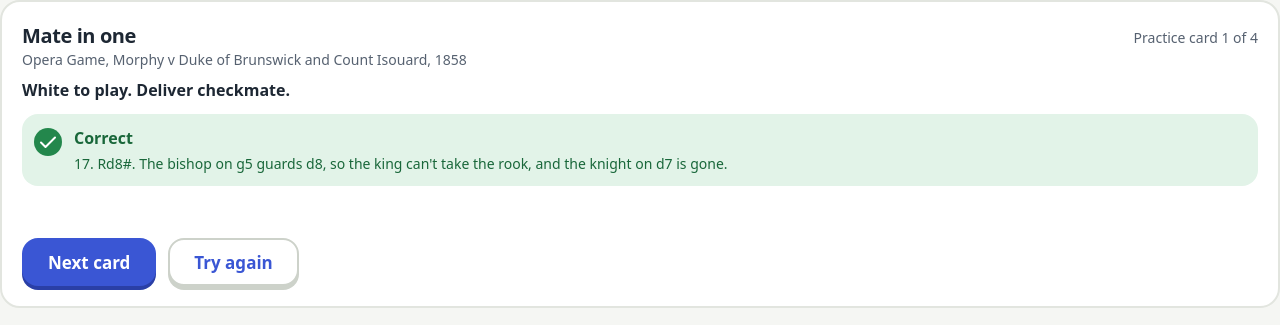
it: Practice cards › moves to the next card, and wraps round after the last
This screenshot has width=1280, height=325.
Click the button "Next card" at {"x": 89, "y": 262}, box [22,238,156,286]
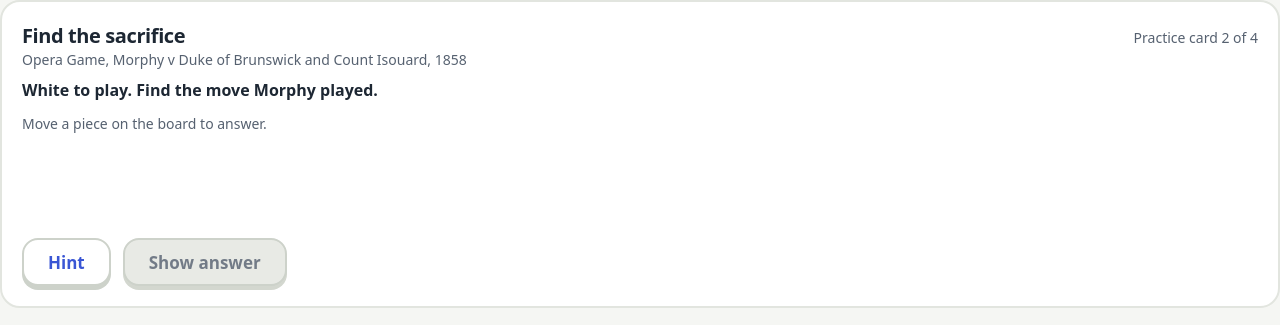
Expected: the text "Practice card 2 of 4" is shown, [1134,28,1258,48]
Expected: the heading "Find the sacrifice" is shown, [22,22,185,50]
